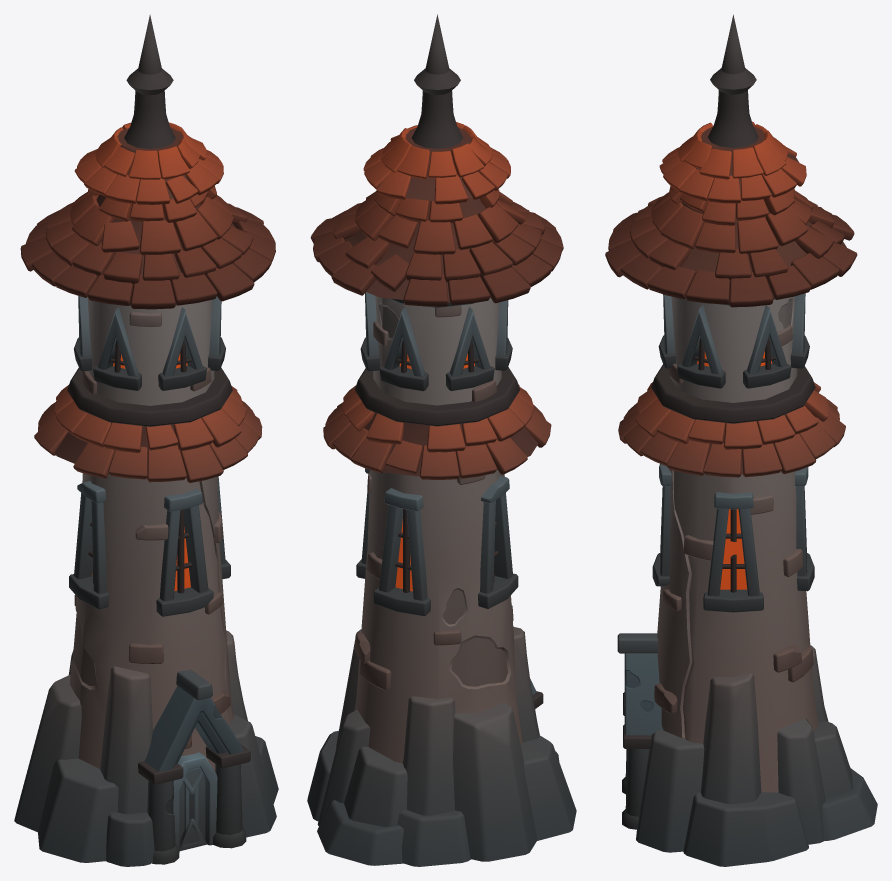
The model's file is inferno-tower-big-001.glb.
3 views of the same model, side by side, from view 1: azimuth 30°, elevation 25°; view 2: azimuth 150°, elevation 25°; view 3: azimuth 270°, elevation 25° (orthographic).
Parts seen in each view (by area): view 1: TowerBig_001; view 2: TowerBig_001; view 3: TowerBig_001.
Boxes of the visible parts, left/top/right/bottom form: TowerBig_001: left=14, top=14, right=278, bottom=866; TowerBig_001: left=307, top=14, right=576, bottom=866; TowerBig_001: left=605, top=14, right=877, bottom=866.
Size of the model in its own units: 15.01 by 46.98 by 14.62.
2 materials, 2 textured.
